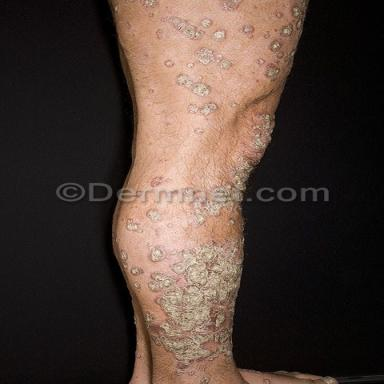Psoriasis: (145, 238, 242, 377), (191, 202, 234, 227), (223, 157, 254, 191), (161, 16, 204, 39), (252, 114, 275, 151), (197, 48, 232, 69), (177, 75, 210, 96), (188, 103, 217, 115), (149, 245, 167, 261), (264, 63, 280, 81), (221, 0, 241, 11), (285, 50, 296, 69), (126, 219, 142, 232), (278, 24, 294, 37), (146, 210, 161, 222), (211, 29, 226, 41), (198, 18, 213, 28), (120, 250, 127, 269), (241, 25, 254, 34), (141, 0, 157, 7), (270, 41, 281, 51), (152, 177, 163, 186), (131, 267, 142, 275), (155, 29, 163, 39), (200, 377, 209, 384), (165, 60, 174, 67), (254, 59, 264, 65), (195, 128, 204, 134), (228, 218, 235, 225), (276, 52, 284, 58), (115, 6, 118, 11)
